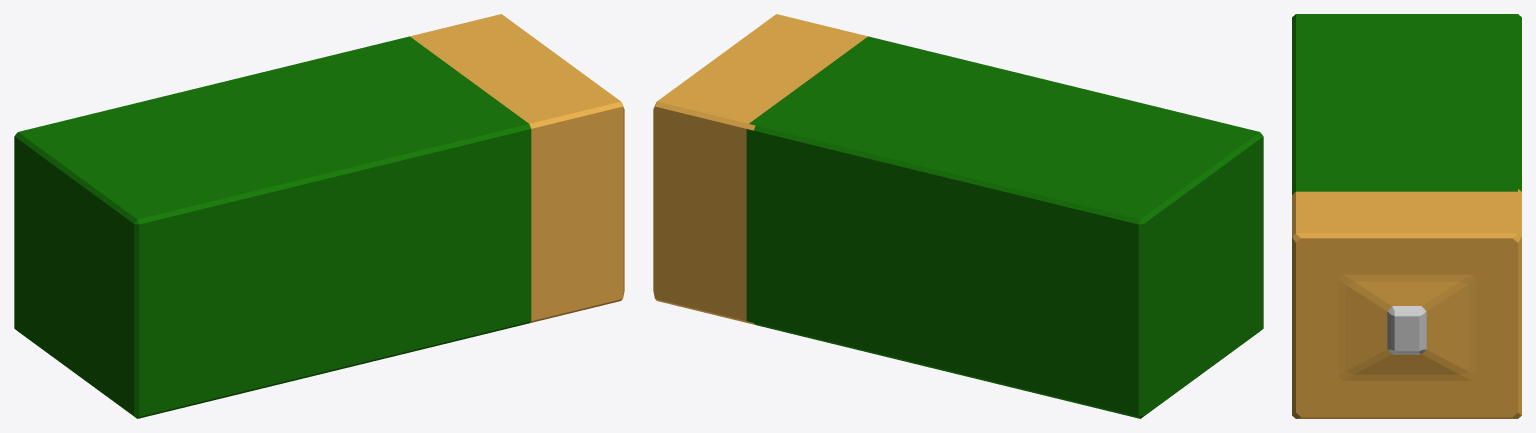
Rendered from battery_part_green.dae.
3 views of the same model, side by side, from view 1: azimuth 30°, elevation 25°; view 2: azimuth 150°, elevation 25°; view 3: azimuth 270°, elevation 25° (orthographic). The views are drawn at different scales.
Parts seen in each view (by area): view 1: BATTERY; view 2: BATTERY; view 3: BATTERY.
Boxes of the visible parts, left/top/right/bottom form: BATTERY: left=14, top=14, right=624, bottom=418; BATTERY: left=653, top=14, right=1263, bottom=418; BATTERY: left=1292, top=14, right=1521, bottom=418.
Size of the model in its own units: 0.1408 by 0.0598 by 0.0533.
